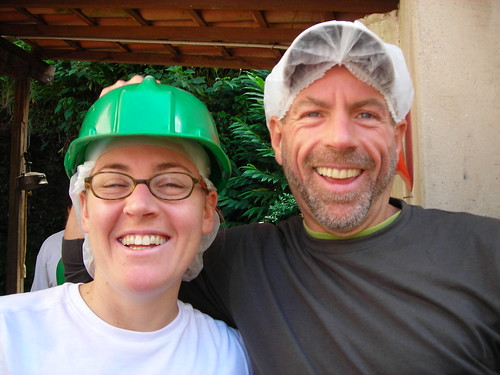person hardhat: (1, 73, 248, 375)
